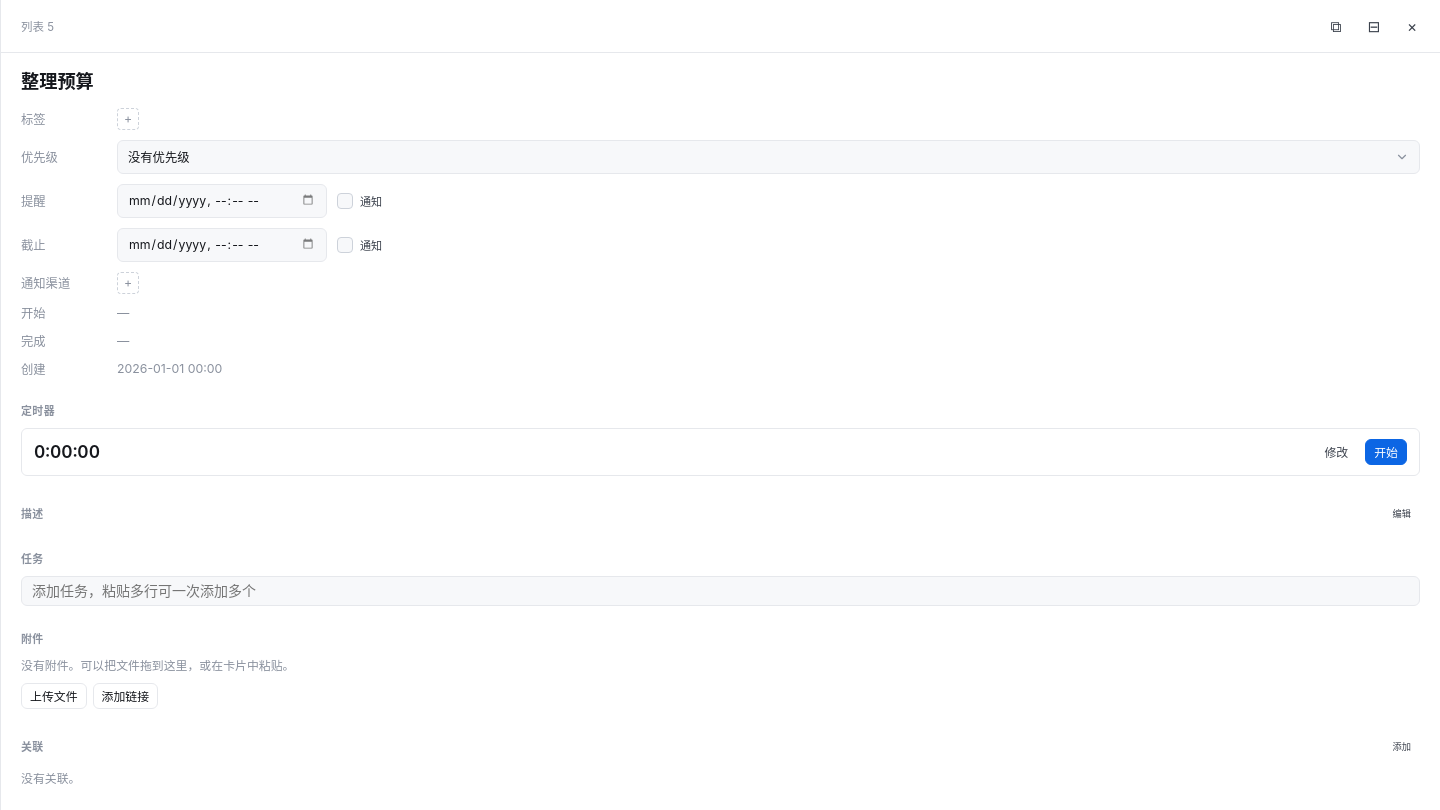
CardDetail › 修改标题时带上开始编辑时的同步序号，保存后立即显示新标题
Click the heading "整理预算": (57, 81) [21,70,94,92]
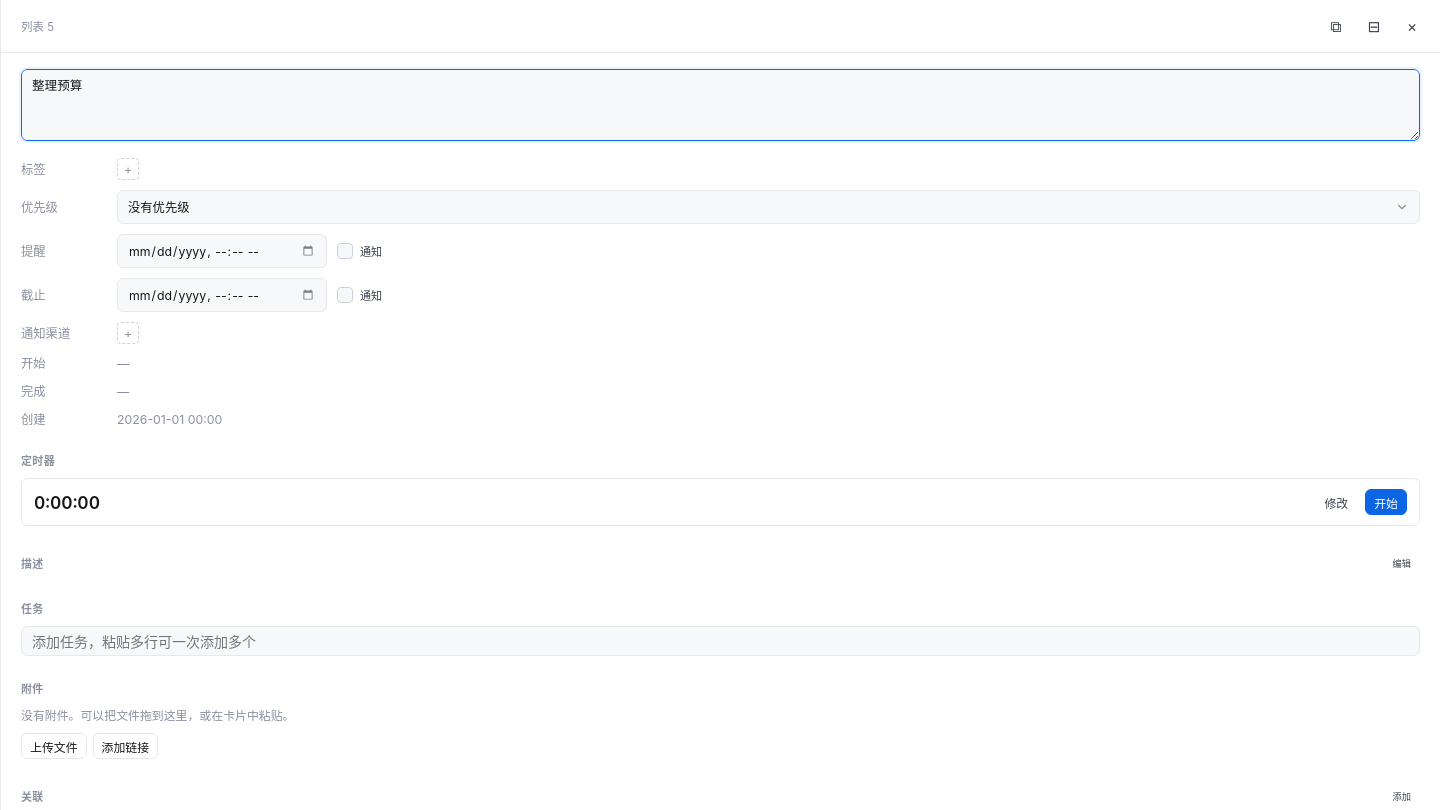
Replace the text in the text box named "卡片标题" with "整理 10 月预算": (720, 105) [21,69,1420,141]
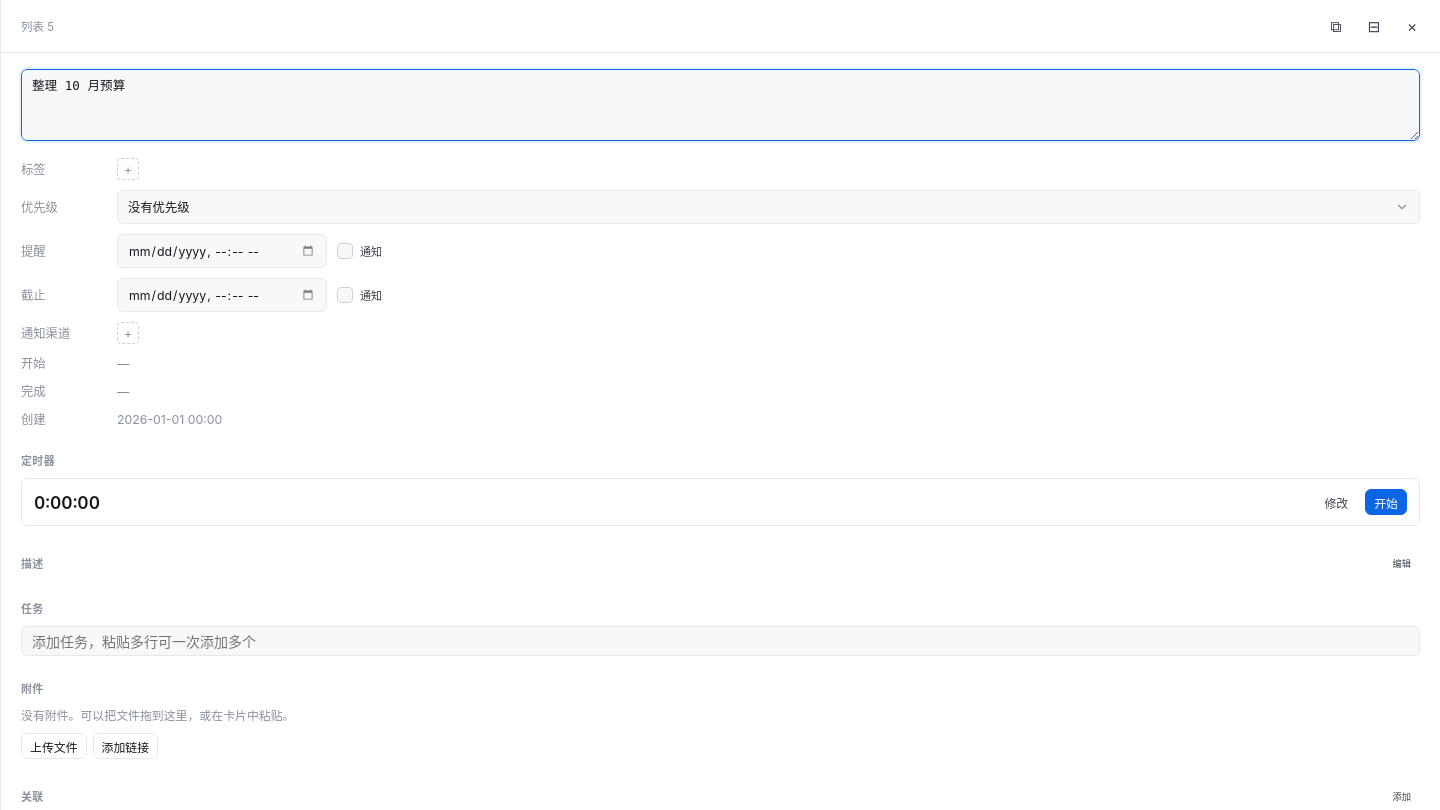
Press Enter in the text box named "卡片标题", box [21,69,1420,141]
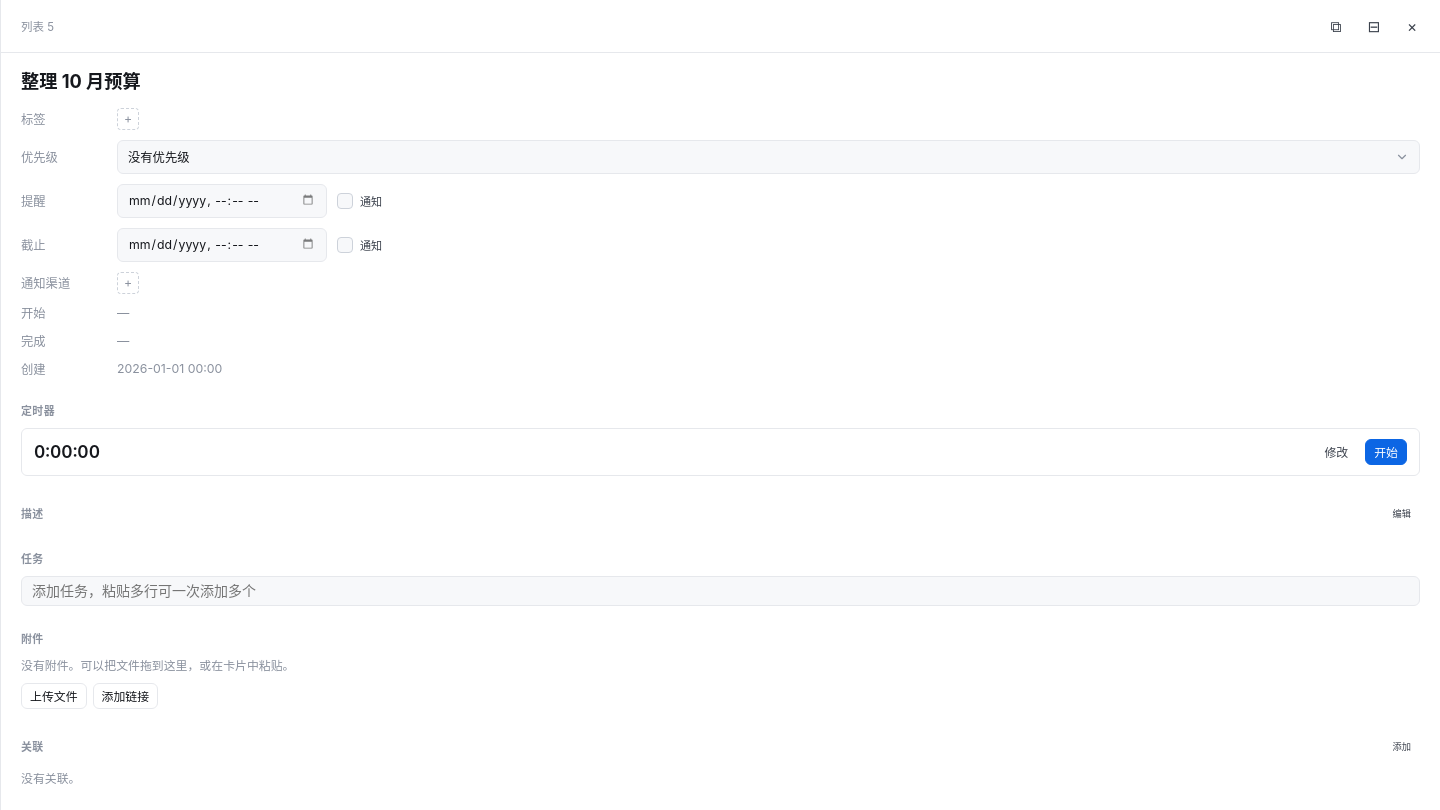
Check: the heading "整理 10 月预算" is shown, box [21,70,141,92]
